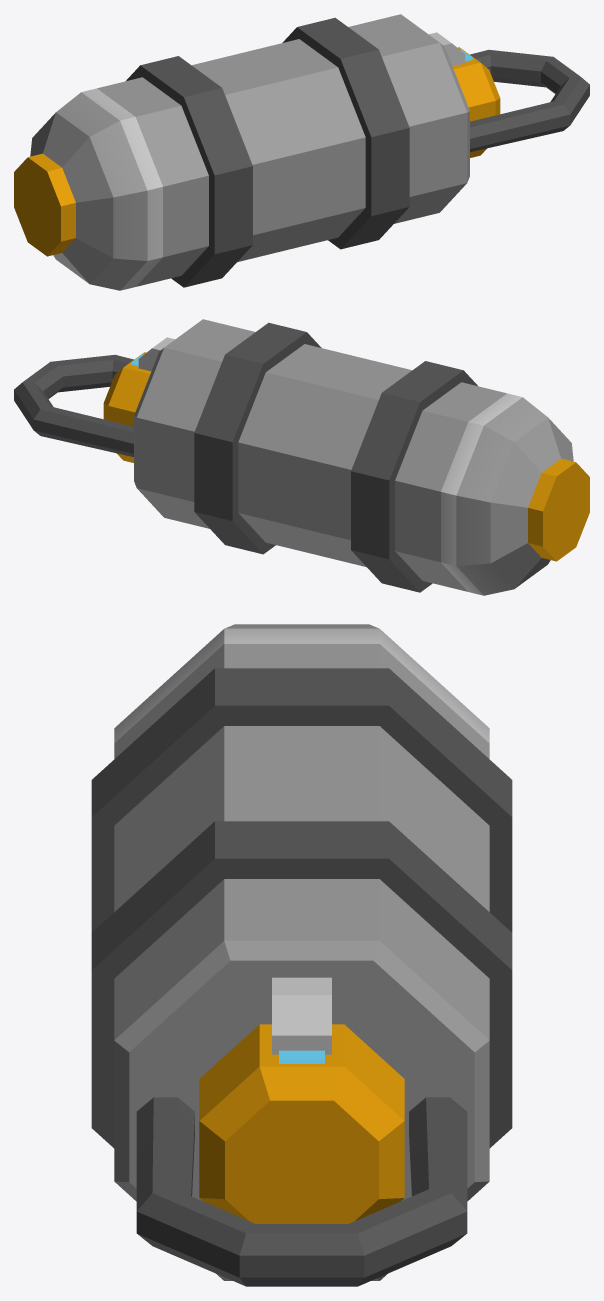
3 renders of one model, top to bottom at view 1: azimuth 30°, elevation 25°; view 2: azimuth 150°, elevation 25°; view 3: azimuth 270°, elevation 25°, orthographic. The views are drawn at different scales.
Parts seen in each view (by area): view 1: SM_FT01_Cylinder; view 2: SM_FT01_Cylinder; view 3: SM_FT01_Cylinder.
Part boxes in pixels (bbox=[...]): SM_FT01_Cylinder: bbox=[14, 14, 589, 290]; SM_FT01_Cylinder: bbox=[14, 319, 589, 595]; SM_FT01_Cylinder: bbox=[91, 624, 512, 1286].
Bounding box in the file's own units: 38.84 × 13.17 × 13.17.
